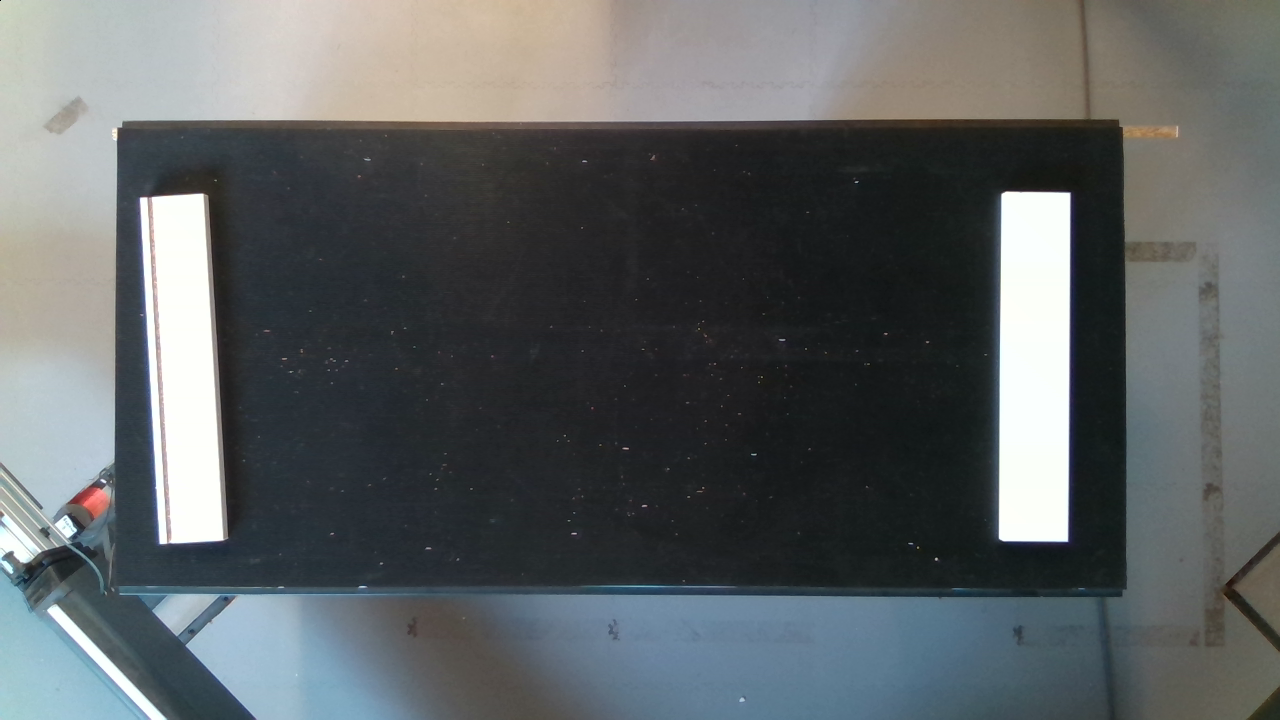part1: (128, 179, 237, 553), (981, 172, 1080, 556)
